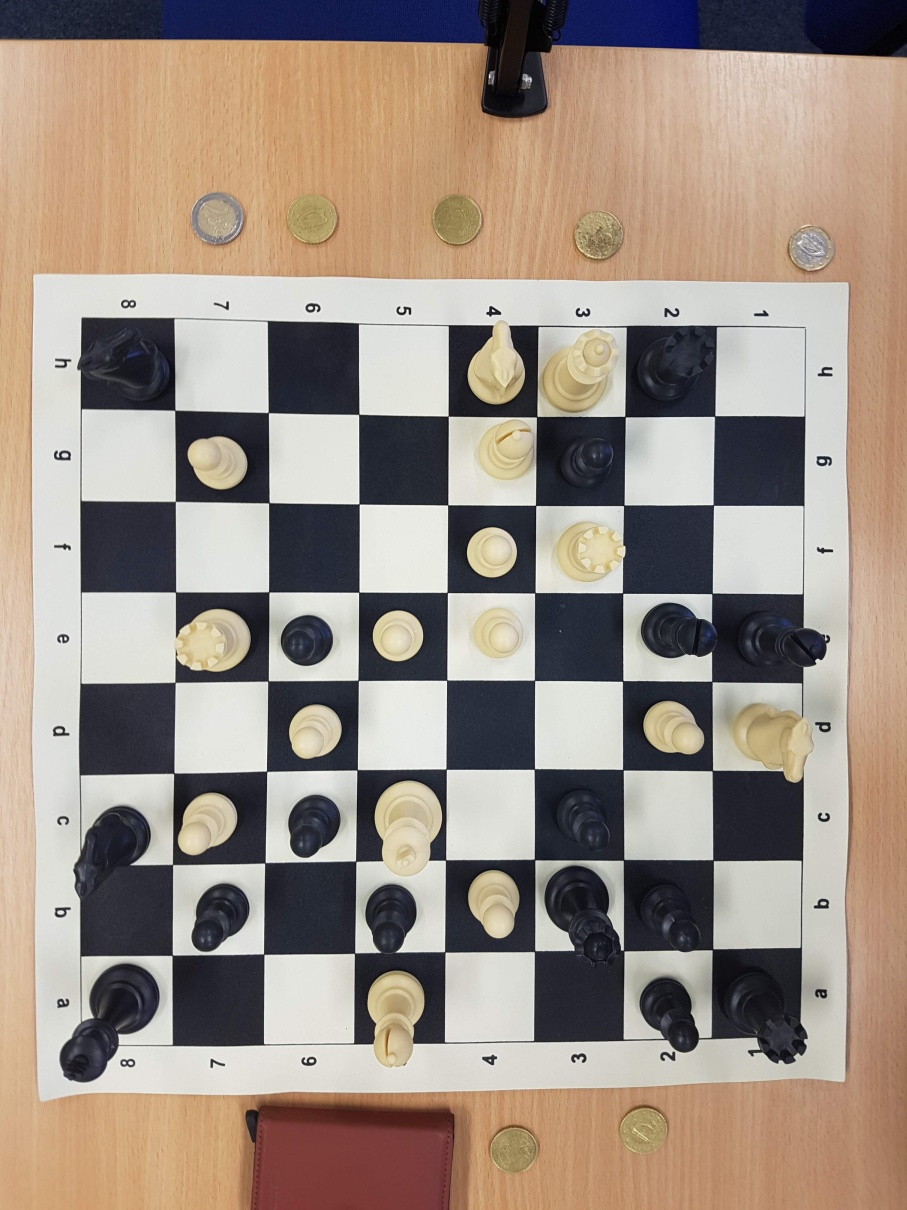chess_bishop: (367, 969, 424, 1068), (737, 612, 827, 669), (643, 603, 715, 659), (477, 419, 537, 479)
chess_king: (60, 966, 160, 1083), (375, 781, 441, 877)
chess_knight: (73, 806, 150, 899), (77, 326, 170, 402), (733, 703, 814, 783), (466, 320, 528, 405)
chess_pawn: (640, 978, 700, 1054), (641, 881, 701, 952), (192, 883, 250, 952), (177, 791, 238, 856), (365, 884, 417, 955), (468, 868, 520, 938), (287, 794, 341, 860), (641, 699, 704, 754), (557, 788, 610, 851), (187, 436, 248, 489), (560, 434, 614, 491), (289, 704, 341, 759), (466, 526, 518, 578), (373, 611, 424, 662), (473, 609, 525, 659), (282, 615, 333, 665)
chess_queen: (546, 865, 621, 967), (545, 331, 617, 410)
chess_rook: (724, 969, 807, 1065), (639, 328, 713, 403), (175, 607, 251, 672), (557, 521, 625, 583)
